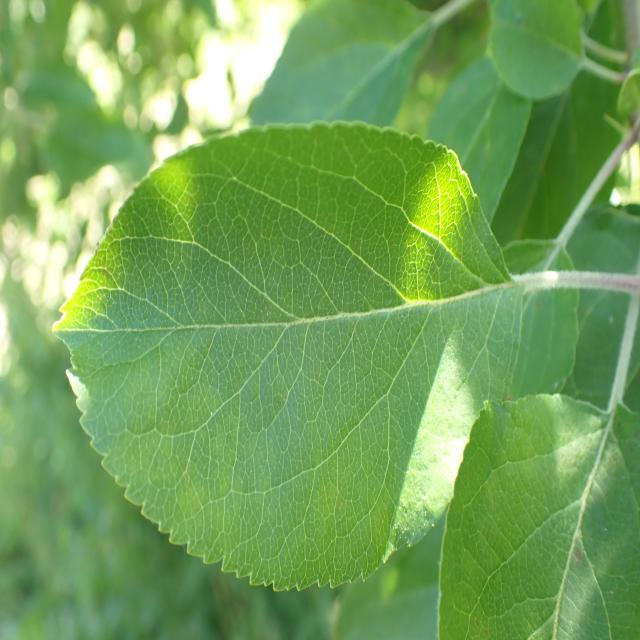healthy: (51, 120, 524, 594), (438, 392, 640, 640), (245, 0, 432, 130), (560, 201, 640, 412), (500, 239, 580, 400), (486, 0, 586, 100)
